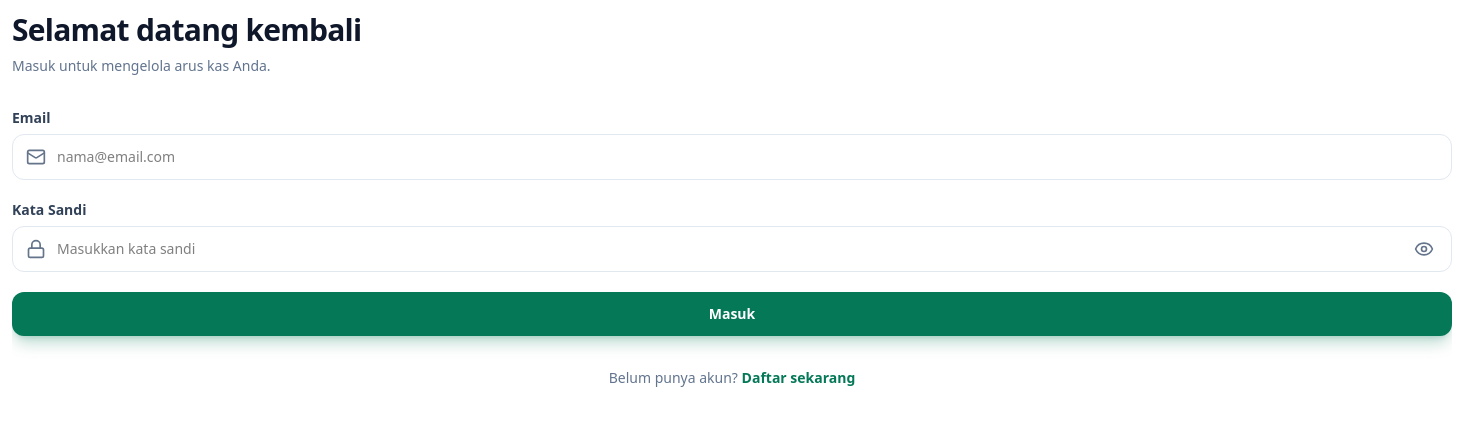
Test: validasi › menolak format email yang tidak valid
This screenshot has width=1464, height=426.
Type "bukan-email" into the field with id "login-email-input" at (732, 157), box left=12, top=134, right=1452, bottom=180
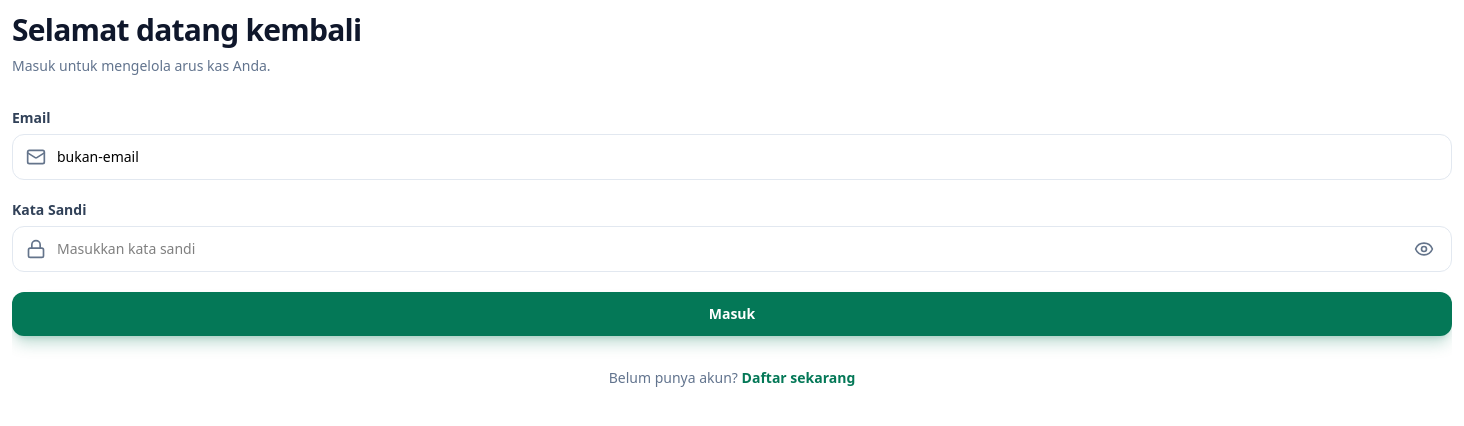
Type "rahasia" into the password field with id "login-password-input" at (732, 249), box left=12, top=226, right=1452, bottom=272
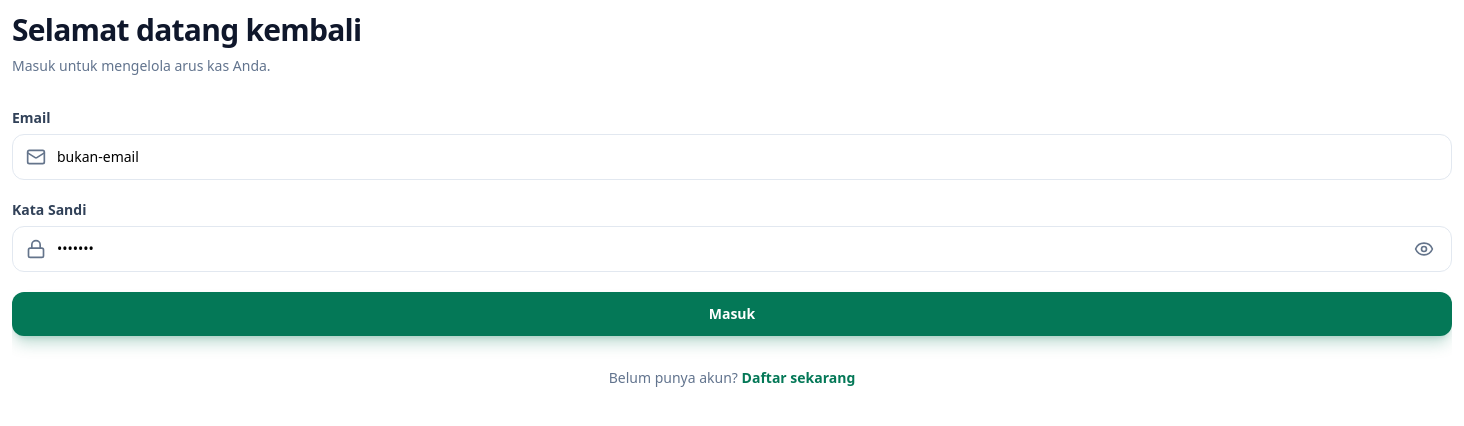
Submit the form, box left=12, top=108, right=1452, bottom=336
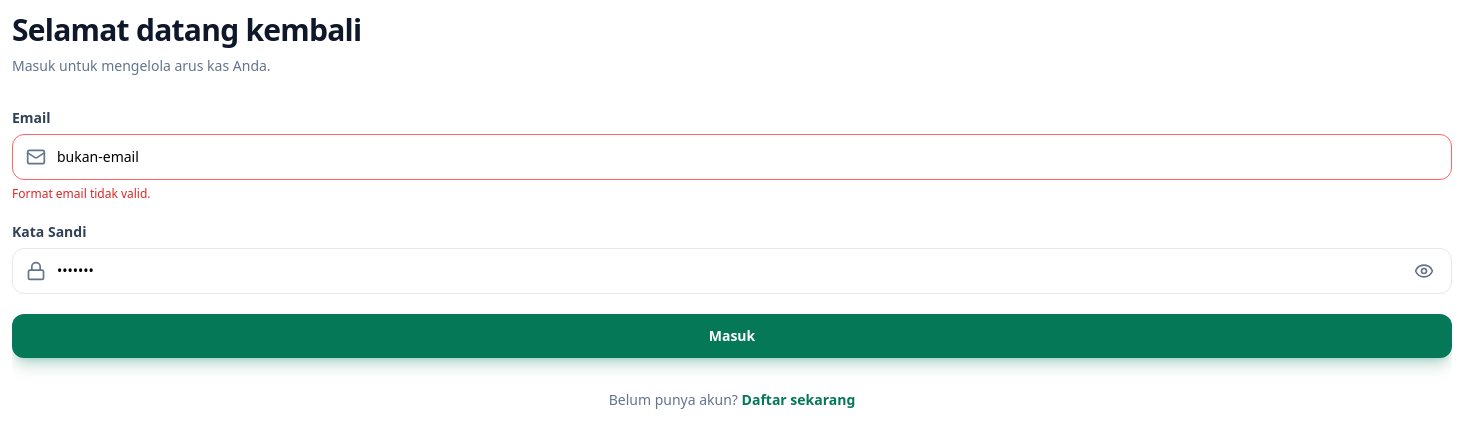
Expected: the text "Format email tidak valid." is shown, left=12, top=185, right=151, bottom=202
